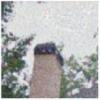chimneys: (29, 42, 64, 98)
